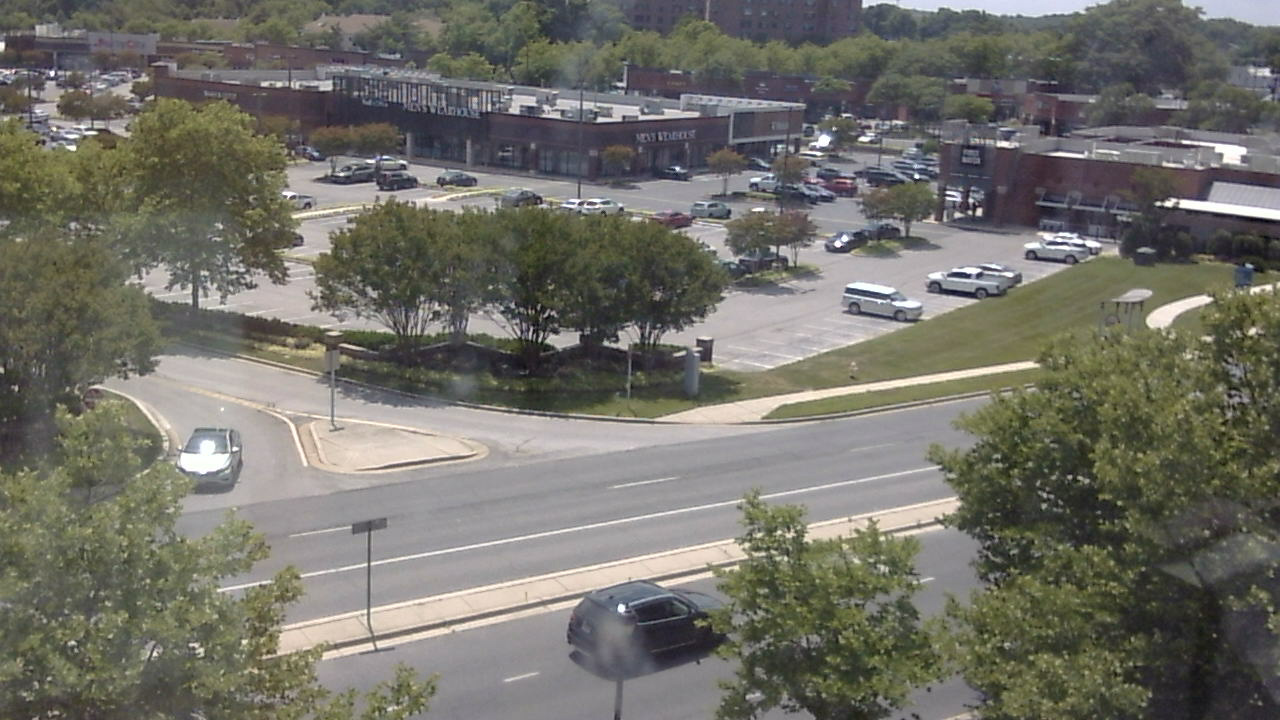Car: (551, 565, 744, 682), (838, 277, 930, 349), (182, 421, 251, 511)
